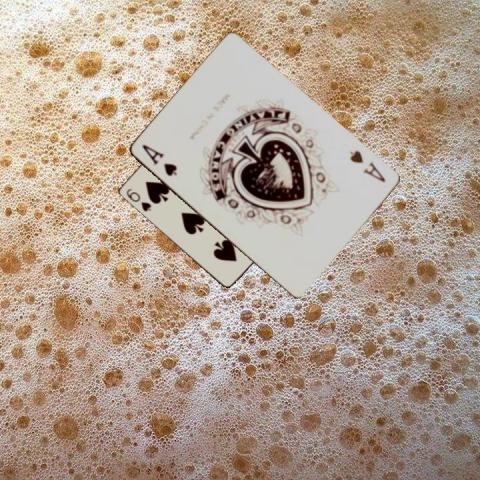6s: (123, 186, 152, 214)
As: (346, 147, 387, 184), (138, 141, 178, 178)
